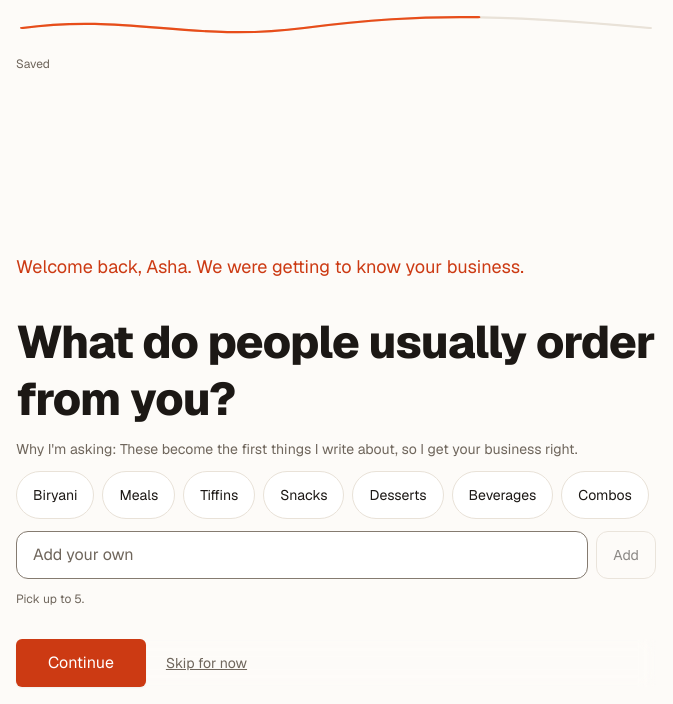
Scenario: ConversationShell › validation and skipping › lets the owner skip an optional question, remembers it, and moves on
Click the button "Skip for now". click: point(206, 663)
box: x1=158 y1=641 x2=255 y2=685
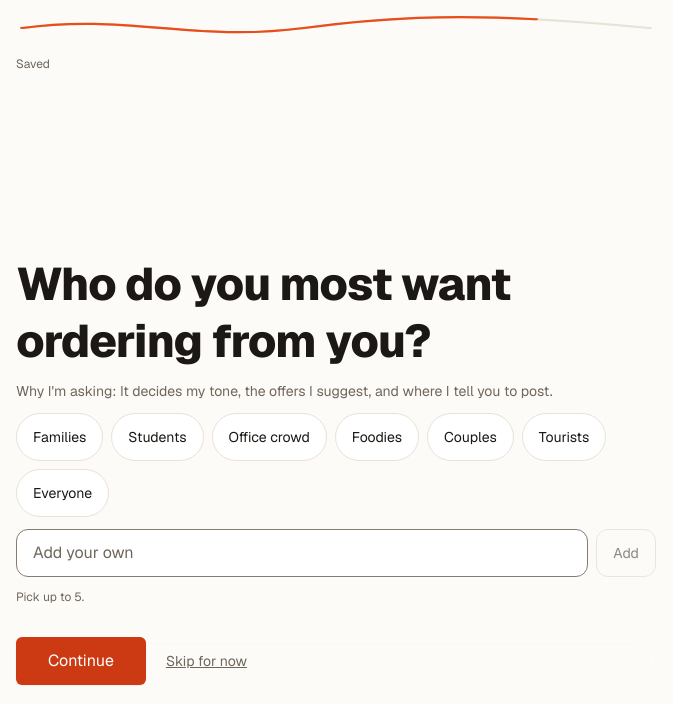
Now the heading "Who do you most want ordering from you?" is shown, box x1=16 y1=254 x2=510 y2=370
